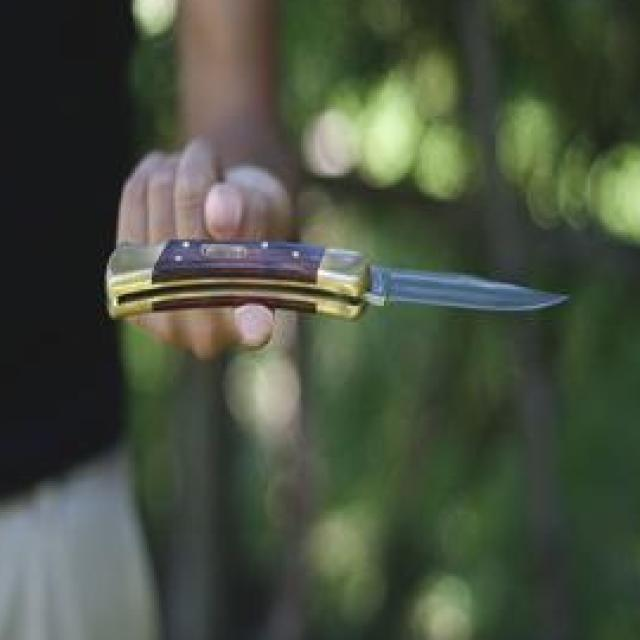knife: (95, 211, 581, 350)
